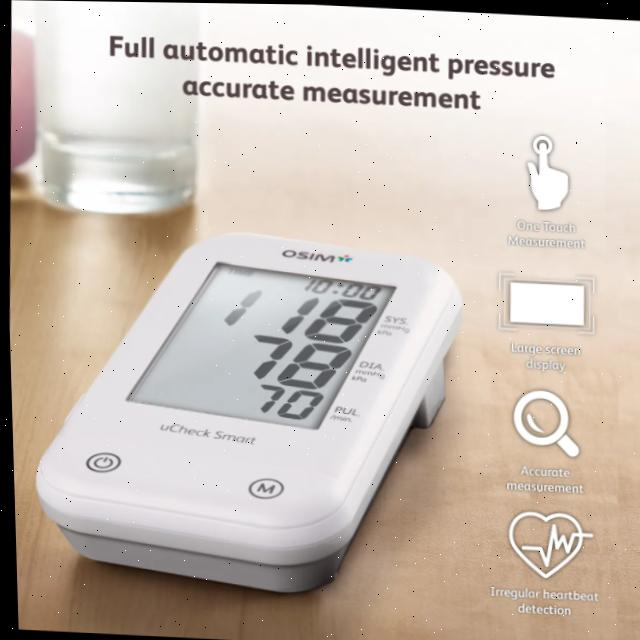dia: (234, 325, 354, 396)
pul: (242, 377, 327, 426)
ssd: (123, 253, 394, 440)
sys: (205, 275, 389, 351)
